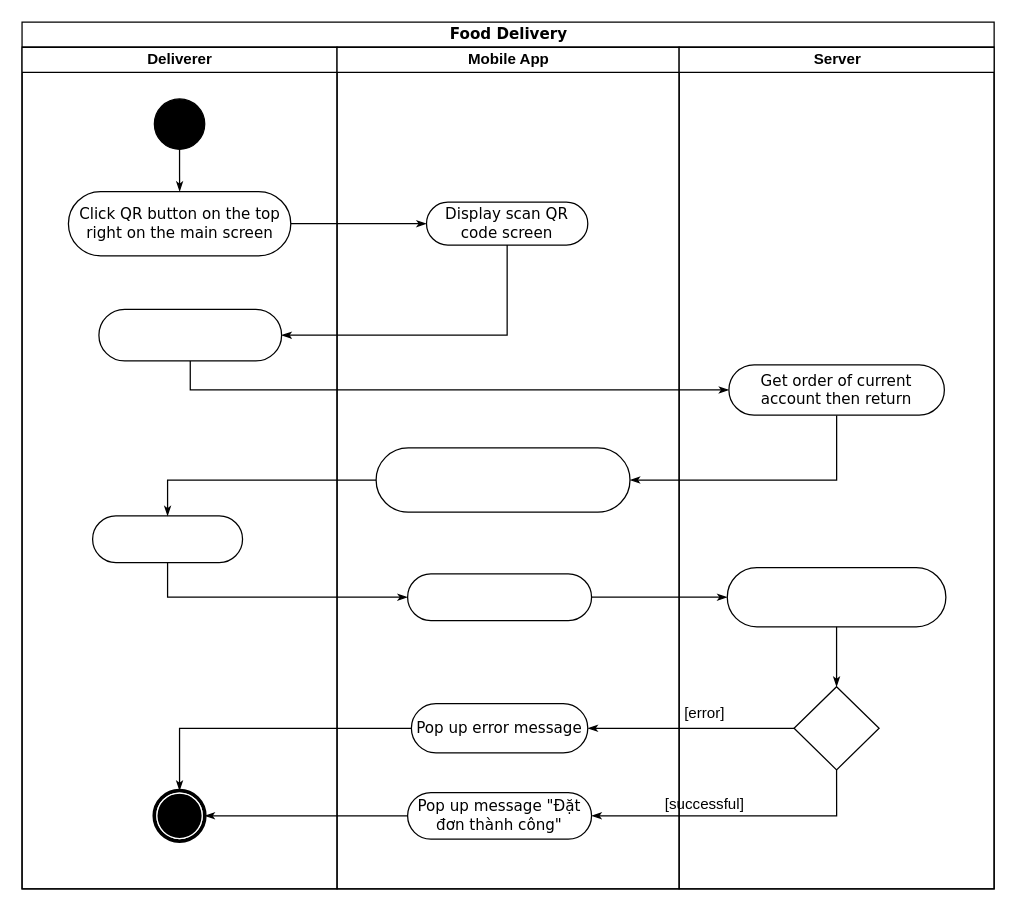
This 1017x911 diagram has some shape labels left out. The centre of each missing label's shape, as x and y in pixels:
Click on the "Giao hàng" button: point (167, 539)
Confirm for delivery: point (499, 597)
Display customer order details on the "Chi tiết đơn hàng" screen: point (502, 479)
Scan the QR code on the loyalty card: point (190, 334)
Update order status: point (836, 596)
